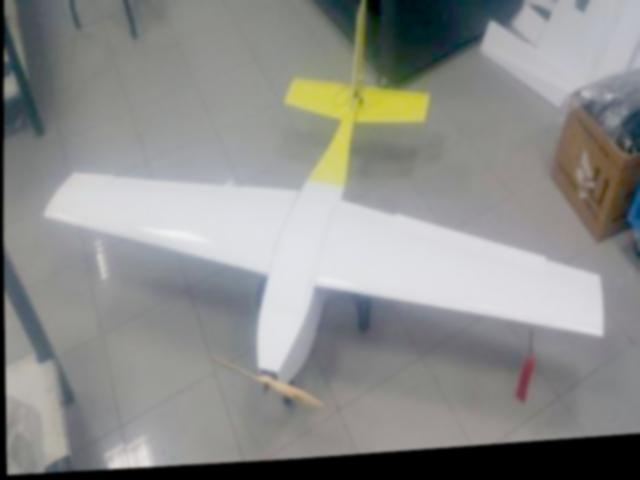uav: (36, 0, 612, 416)
